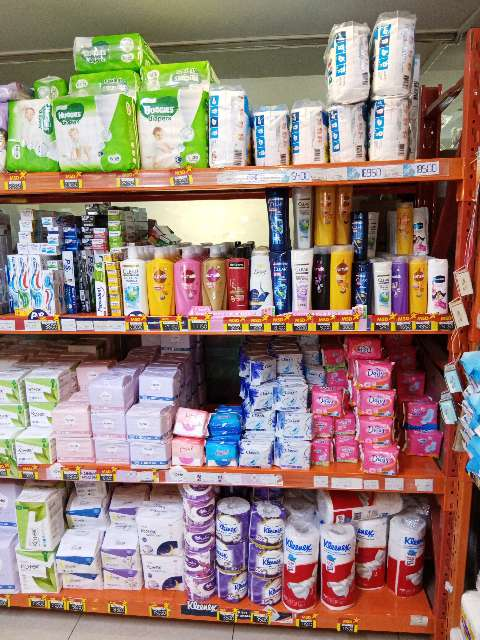aquafresh: (30, 253, 57, 312), (6, 253, 28, 315)
classic: (274, 342, 311, 377), (240, 350, 275, 381), (277, 442, 311, 468), (279, 413, 309, 442), (240, 440, 270, 469), (240, 387, 273, 410), (276, 377, 304, 404), (243, 412, 270, 432)
clear: (114, 246, 148, 317), (264, 190, 289, 249), (289, 247, 312, 310), (292, 187, 314, 249), (369, 257, 390, 319), (273, 253, 287, 313), (355, 260, 370, 311), (368, 209, 384, 252), (354, 210, 367, 254)
daisy: (400, 372, 439, 450), (346, 334, 393, 387), (313, 419, 350, 467), (354, 442, 404, 469), (309, 386, 349, 418), (349, 392, 395, 418), (355, 421, 391, 444)
dove: (249, 247, 271, 315)
huggies: (48, 98, 134, 170), (137, 91, 211, 165), (5, 98, 48, 167), (74, 34, 150, 69), (153, 60, 219, 95), (67, 70, 140, 97)
khatad: (204, 437, 242, 466), (173, 408, 205, 436), (167, 437, 200, 464), (209, 409, 237, 430)
kleenex bathroom paper: (212, 495, 249, 542), (252, 498, 283, 545), (208, 540, 247, 572), (250, 545, 282, 576), (213, 573, 247, 600), (249, 576, 282, 603)
kleenex kt: (387, 510, 428, 594), (320, 524, 356, 610), (354, 507, 386, 593), (283, 526, 316, 607)
kotex: (11, 492, 60, 551), (139, 511, 184, 559), (63, 490, 110, 531), (15, 553, 58, 596), (143, 558, 187, 597), (9, 432, 58, 467), (108, 483, 143, 529), (89, 374, 130, 411), (140, 366, 181, 401), (98, 535, 139, 567), (61, 538, 97, 573), (131, 403, 170, 435), (25, 373, 64, 404), (92, 438, 131, 469), (51, 408, 94, 435), (126, 440, 167, 468), (102, 569, 143, 592), (22, 403, 50, 435), (61, 438, 90, 462), (62, 575, 99, 593), (95, 417, 126, 438), (2, 371, 22, 403), (1, 404, 21, 428)
ps: (59, 247, 79, 316), (81, 245, 95, 317)
sunsilk: (171, 240, 200, 315), (147, 245, 170, 315), (204, 241, 225, 312), (332, 246, 353, 311), (315, 246, 331, 312), (391, 256, 408, 317), (395, 201, 414, 253), (318, 185, 334, 245), (411, 258, 428, 313), (339, 185, 352, 249)
tresemme: (225, 244, 246, 302)
